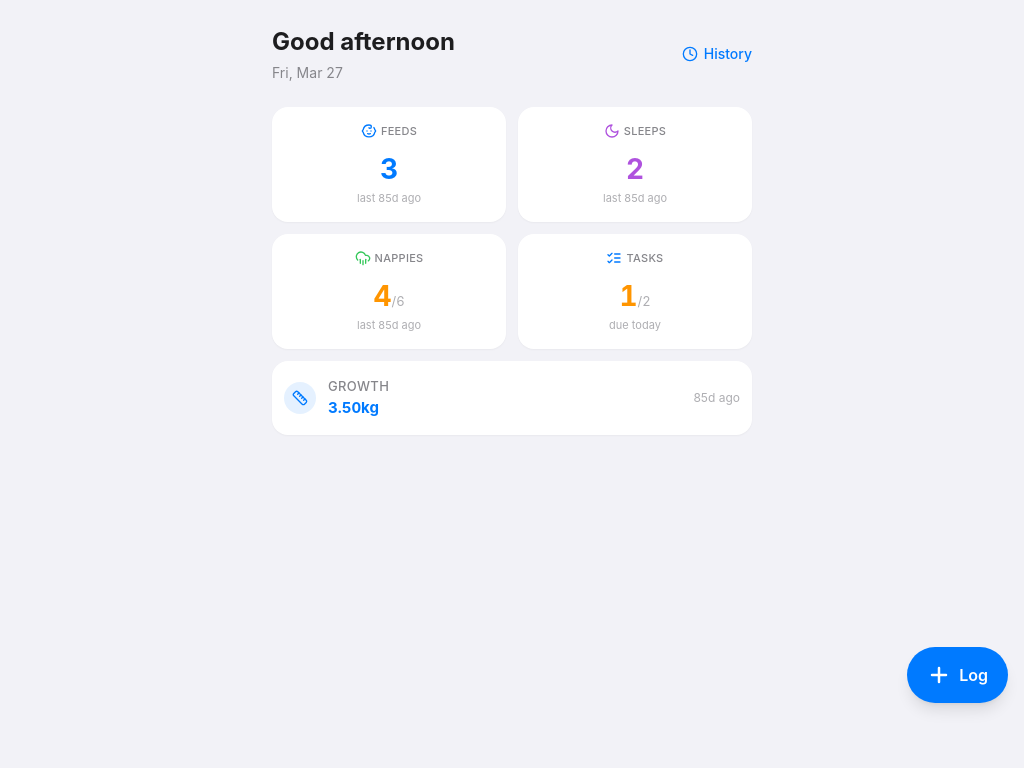
Test: Dashboard › opens quick-add modal and logs a wet nappy
Click the button "Log" at coordinates (958, 675), box left=907, top=647, right=1008, bottom=703
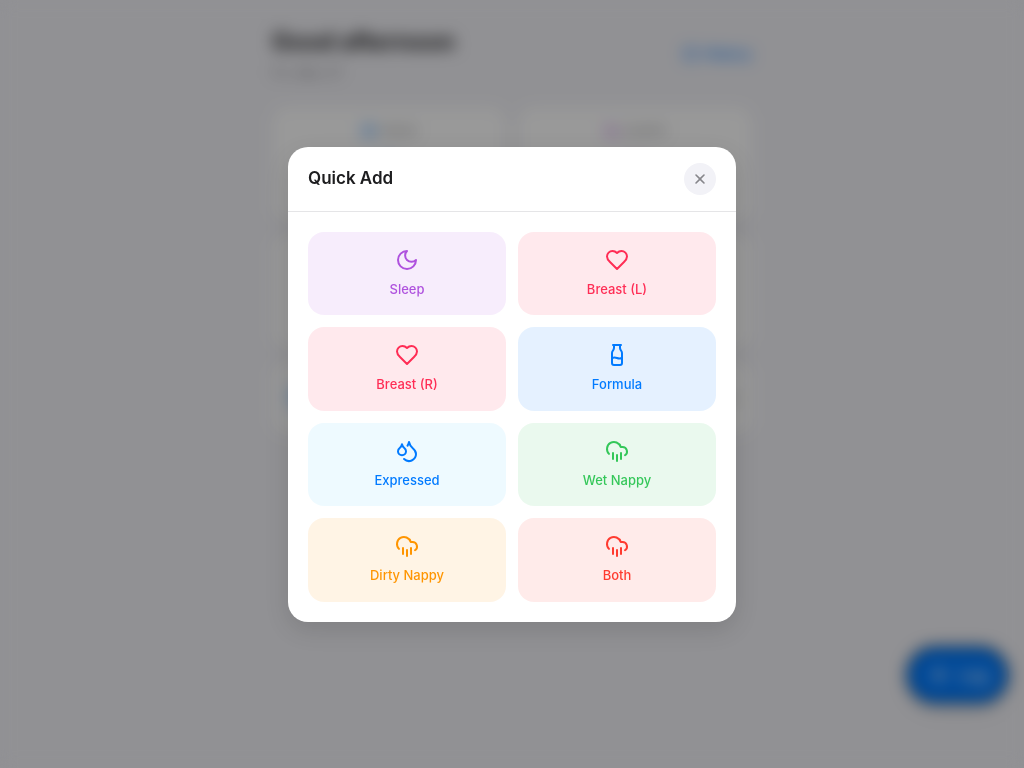
Click the button "Wet Nappy" at coordinates (617, 464), box left=518, top=422, right=716, bottom=506
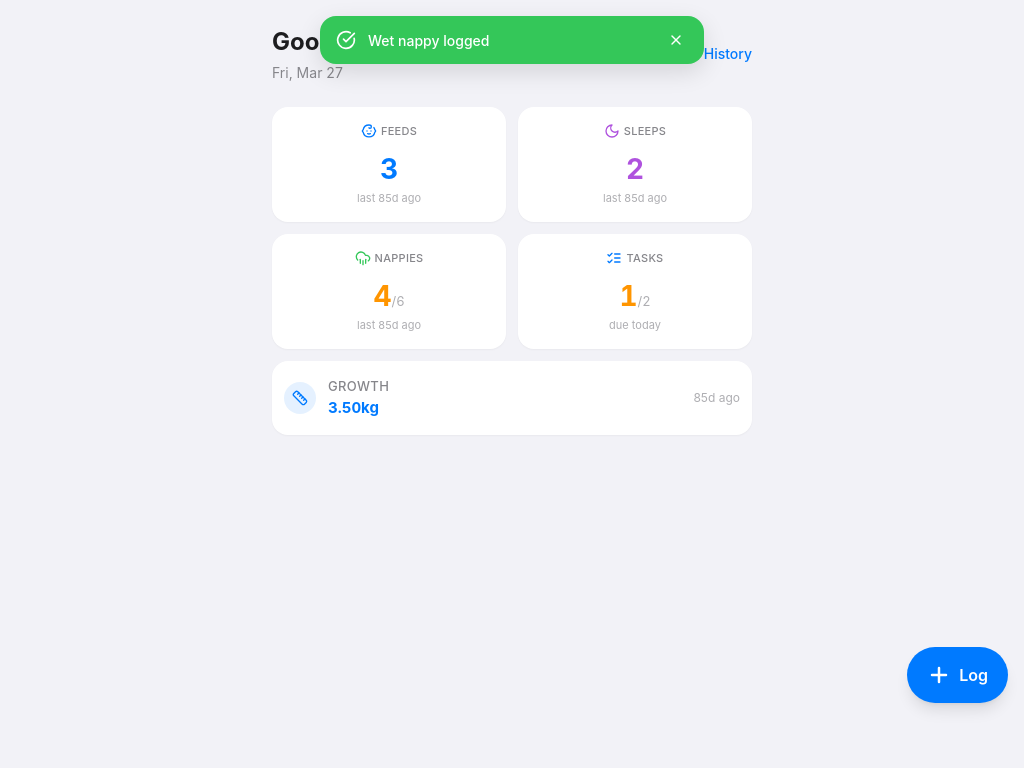
Now the text "Wet nappy logged" is shown, box left=368, top=32, right=490, bottom=48
